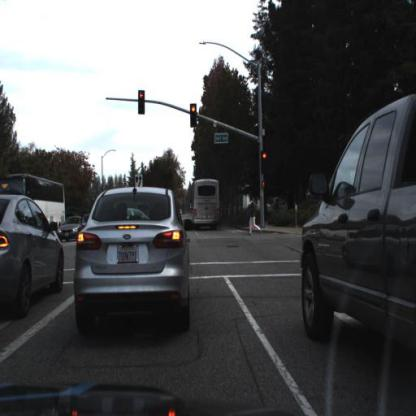car: (300, 89, 416, 367), (299, 90, 416, 365), (75, 186, 190, 334), (1, 195, 67, 313), (57, 215, 84, 244), (59, 214, 81, 241)
pedestrian: (249, 198, 259, 236)
trafficLight-Red: (191, 103, 199, 129), (191, 105, 199, 130), (262, 151, 268, 178), (261, 151, 268, 174)
trafficLight-RedLeft: (138, 91, 147, 116)
truck: (2, 173, 64, 230), (7, 182, 67, 224), (188, 179, 222, 229)
